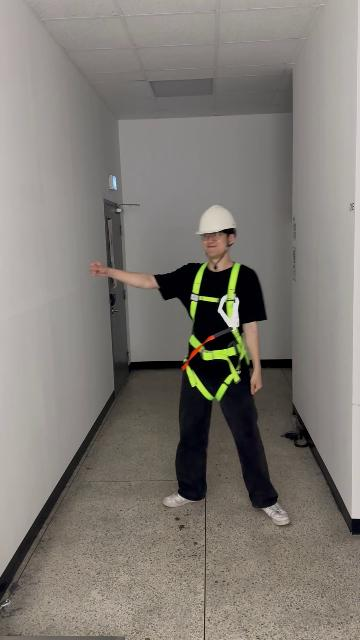helmet_worn: (194, 204, 238, 236)
shoe_not_worn: (259, 502, 290, 525), (162, 490, 203, 507)
vest_worn: (181, 261, 248, 400)
